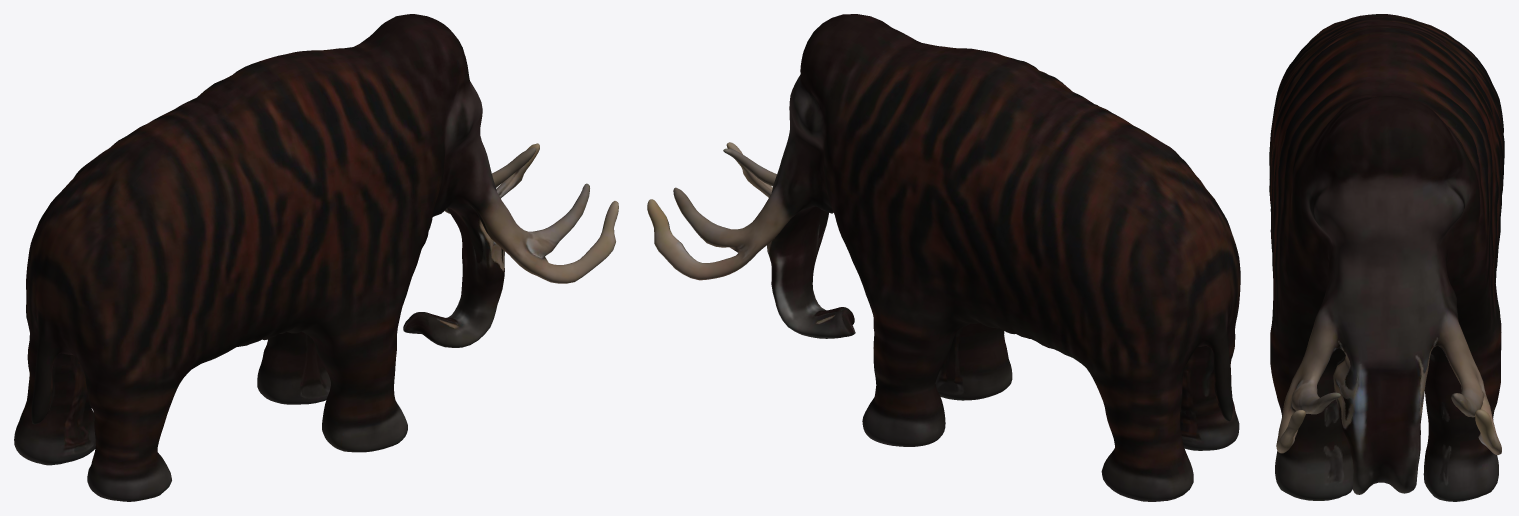
The model's file is 7bf4f17132b4_woolly_mammoth_with.fbx.
3 renders of one model, left to right at view 1: azimuth 30°, elevation 25°; view 2: azimuth 150°, elevation 25°; view 3: azimuth 270°, elevation 25°, orthographic. The views are drawn at different scales.
Parts seen in each view (by area): view 1: mesh; view 2: mesh; view 3: mesh.
Part boxes in pixels (left/top/right/bottom): mesh: left=14, top=14, right=618, bottom=501; mesh: left=647, top=14, right=1240, bottom=501; mesh: left=1269, top=14, right=1504, bottom=501.
Size of the model in its own units: 99.54 by 65.62 by 32.6.
